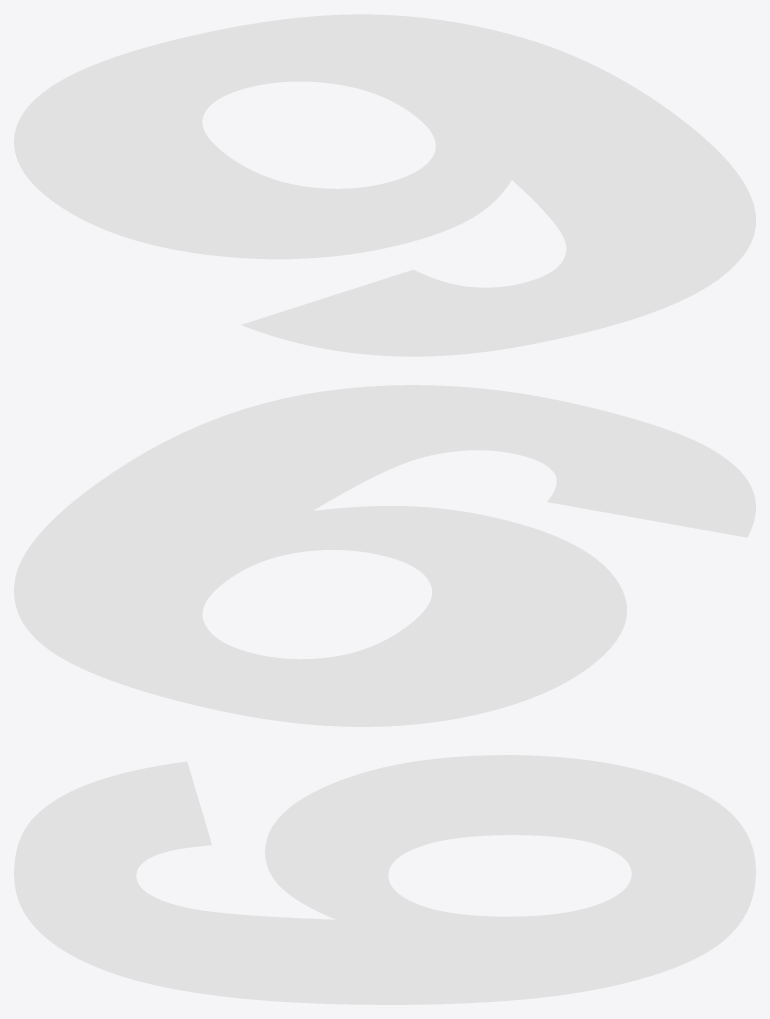
3 renders of one model, top to bottom at view 1: azimuth 30°, elevation 25°; view 2: azimuth 150°, elevation 25°; view 3: azimuth 270°, elevation 25°, orthographic. The views are drawn at different scales.
Visible parts, largest first — view 1: テキスト; view 2: テキスト; view 3: テキスト.
Part boxes in pixels (<box>): テキスト: <box>14,14,755,356</box>; テキスト: <box>14,385,755,726</box>; テキスト: <box>14,755,755,1004</box>.
Bounding box in the file's own units: 0.4243 × 0 × 0.5325.
1 material, 1 textured.
